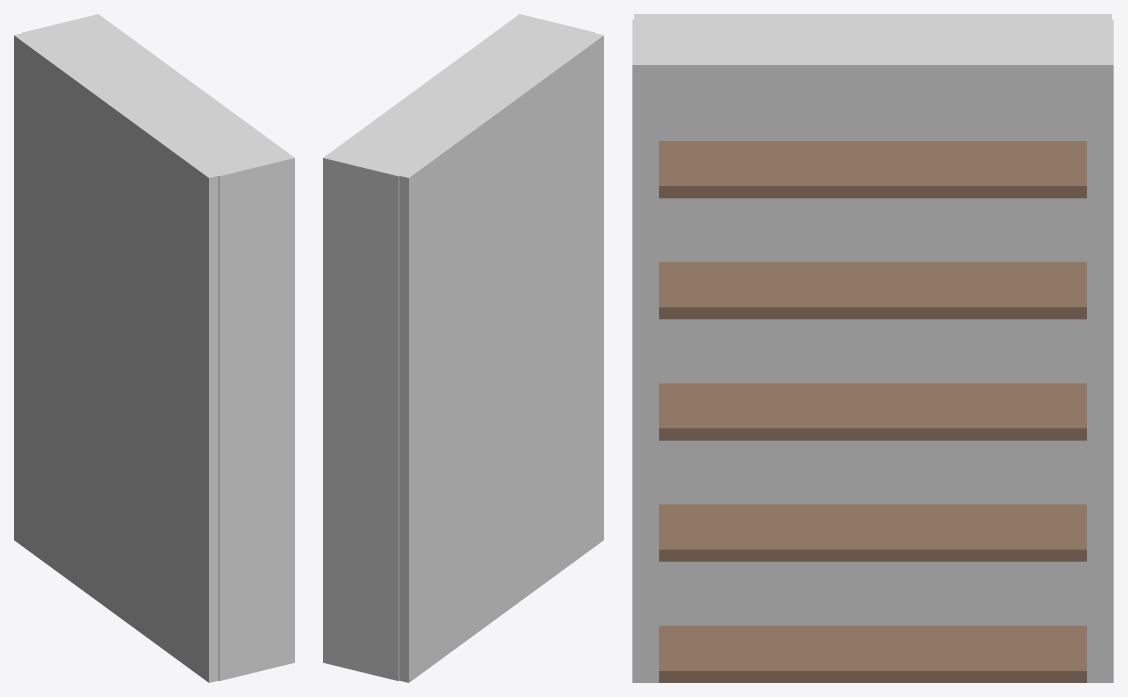
Rendered from Bookshelf.fbx.
The picture shows the model from 3 angles, left to right: view 1: azimuth 30°, elevation 25°; view 2: azimuth 150°, elevation 25°; view 3: azimuth 270°, elevation 25°; orthographic projection. The views are drawn at different scales.
Parts seen in each view (by area): view 1: Cube.001, Cube.007, Cube.006, Cube.008; view 2: Cube.001, Cube.008, Cube.006, Cube.007; view 3: Cube.001, Cube, Cube.002, Cube.003, Cube.004, Cube.005, Cube.006, Cube.007, Cube.008.
Boxes of the visible parts, bbox=[...] form: Cube.001: bbox=[14, 33, 218, 682]; Cube.007: bbox=[209, 150, 294, 680]; Cube.006: bbox=[34, 22, 283, 168]; Cube.008: bbox=[22, 14, 108, 40]; Cube.001: bbox=[399, 33, 603, 682]; Cube.008: bbox=[323, 150, 408, 680]; Cube.006: bbox=[334, 22, 583, 168]; Cube.007: bbox=[509, 14, 595, 40]; Cube.001: bbox=[634, 14, 1111, 625]; Cube: bbox=[659, 625, 1086, 682]; Cube.002: bbox=[659, 504, 1086, 561]; Cube.003: bbox=[659, 383, 1086, 440]; Cube.004: bbox=[659, 262, 1086, 319]; Cube.005: bbox=[659, 141, 1086, 198]; Cube.006: bbox=[659, 19, 1086, 76]; Cube.007: bbox=[632, 19, 658, 682]; Cube.008: bbox=[1087, 19, 1113, 682].
Bounding box in the file's own units: 900 × 5100 × 3600.
